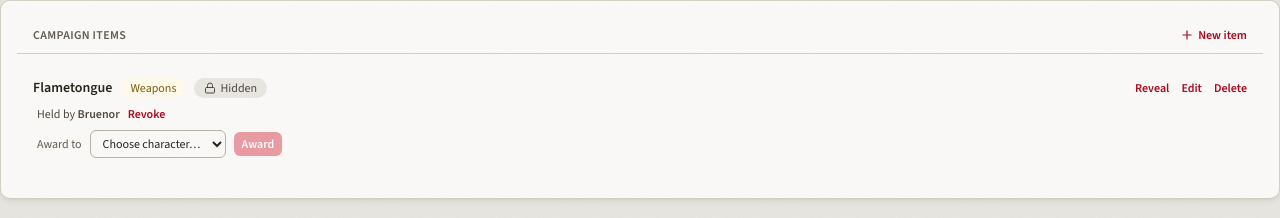
Scenario: CampaignItemsPanel award/revoke (#381) › revokes a held item back to no holders
Expected: the text "Held by Bruenor" is shown, [37,106,120,122]
Click the button "Revoke".
click(146, 114)  # box [128,106,165,122]
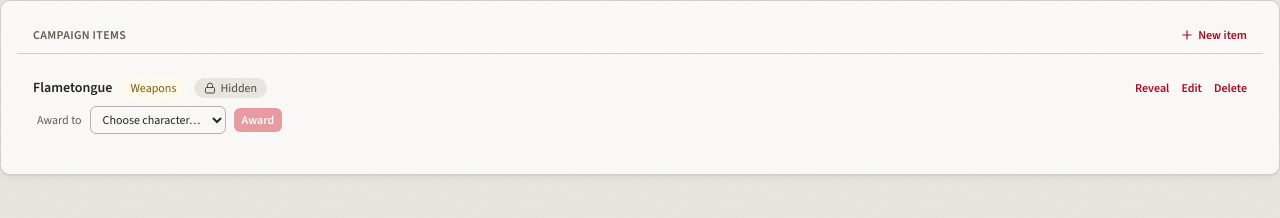
Now the text "Held by" is gone
